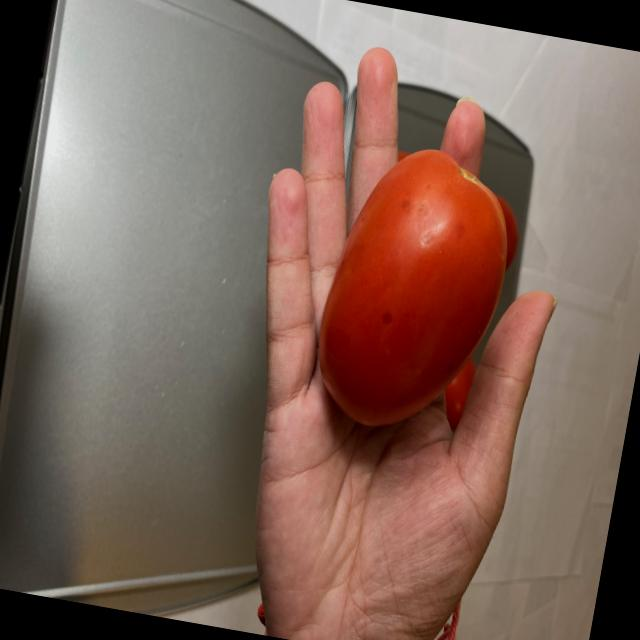tomato: (308, 129, 528, 446)
